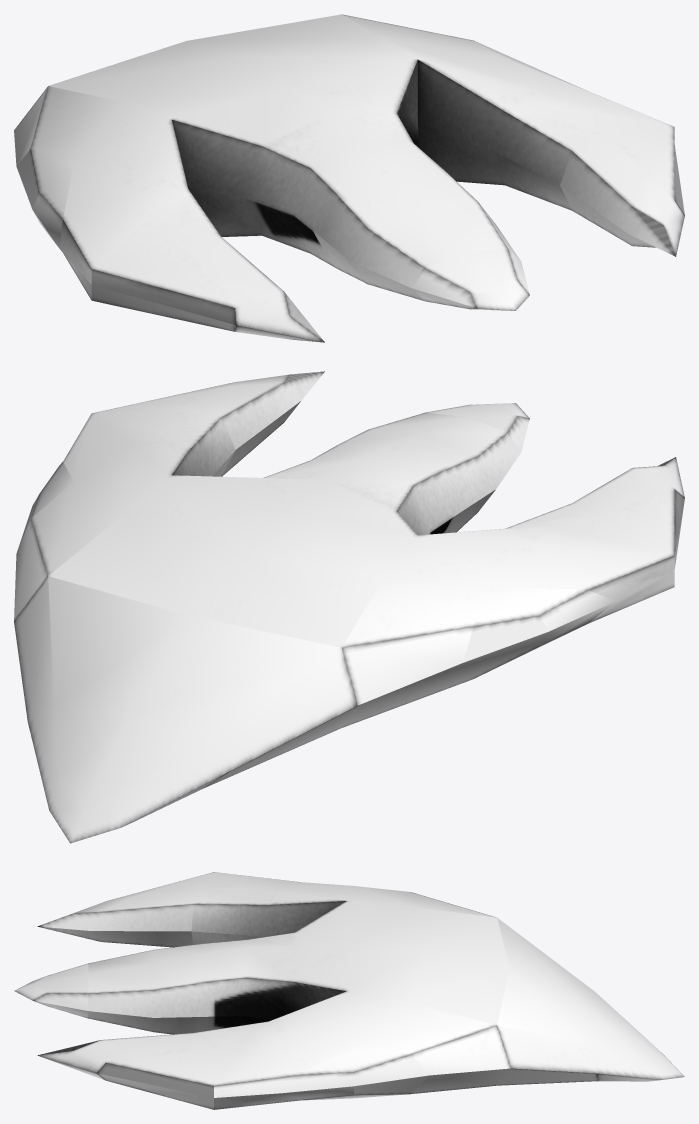
Rendered from enemyDart.dae.
3 views of the same model, one above another, from view 1: azimuth 30°, elevation 25°; view 2: azimuth 150°, elevation 25°; view 3: azimuth 270°, elevation 25° (orthographic). The views are drawn at different scales.
Parts seen in each view (by area): view 1: Mesh; view 2: Mesh; view 3: Mesh.
Part boxes in pixels (left/top/right/bottom): Mesh: left=14, top=14, right=684, bottom=342; Mesh: left=14, top=371, right=684, bottom=843; Mesh: left=14, top=872, right=684, bottom=1109.
Bounding box in the file's own units: 3.79 × 1.08 × 5.02.
Materials: 1 (1 with a texture image).
